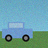vehicle: (2, 22, 33, 42)
